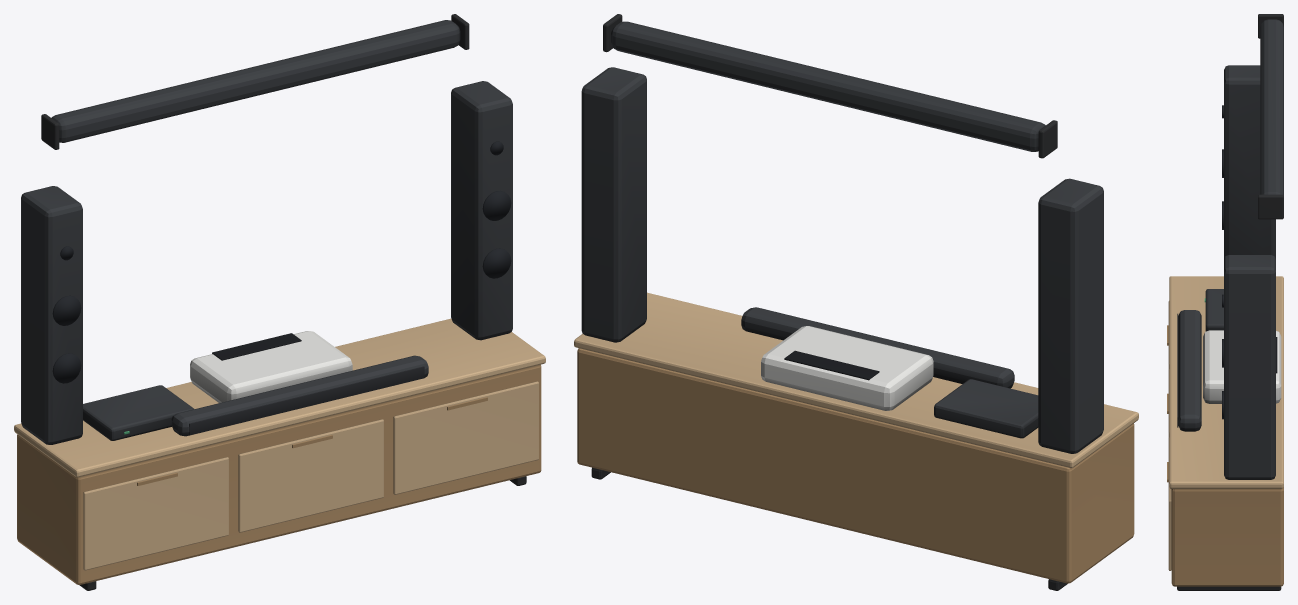
Rendered from homeCinema.glb.
The picture shows the model from 3 angles, left to right: view 1: azimuth 30°, elevation 25°; view 2: azimuth 150°, elevation 25°; view 3: azimuth 270°, elevation 25°; orthographic projection. The views are drawn at different scales.
Parts seen in each view (by area): view 1: homeCinema; view 2: homeCinema; view 3: homeCinema.
Boxes of the visible parts, box(x1,y1,x2,y2) form: homeCinema: box(14, 14, 545, 590); homeCinema: box(574, 14, 1138, 590); homeCinema: box(1167, 14, 1283, 590).
Size of the model in its own units: 1.88 by 1.65 by 0.448.
